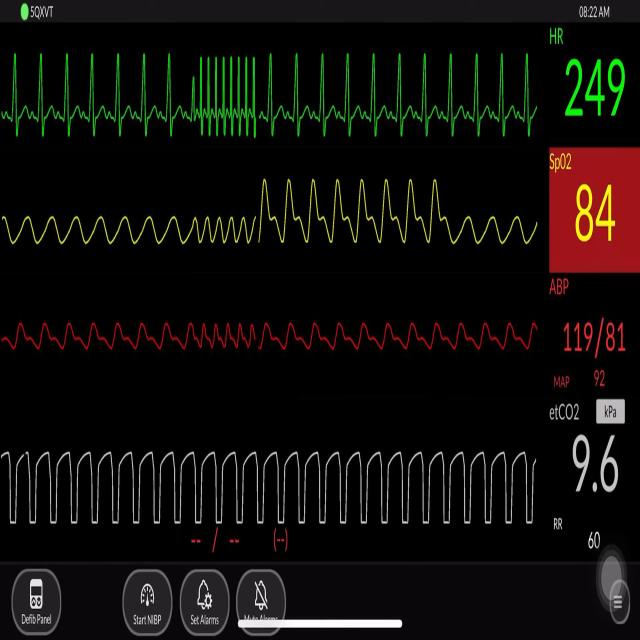danger: (185, 32, 267, 152)
